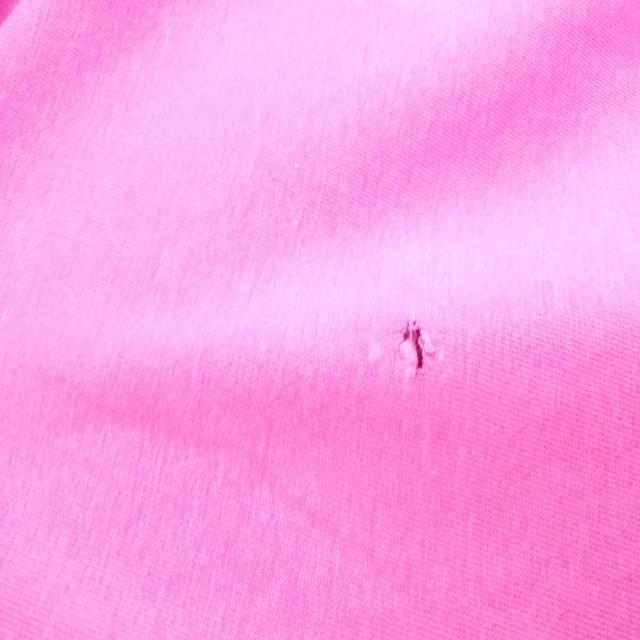other: (350, 293, 452, 400)
